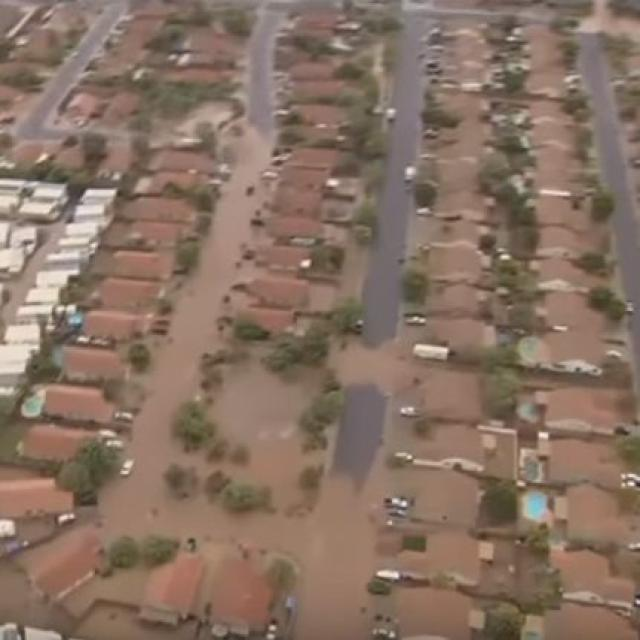flooded_areas: (129, 118, 423, 639)
